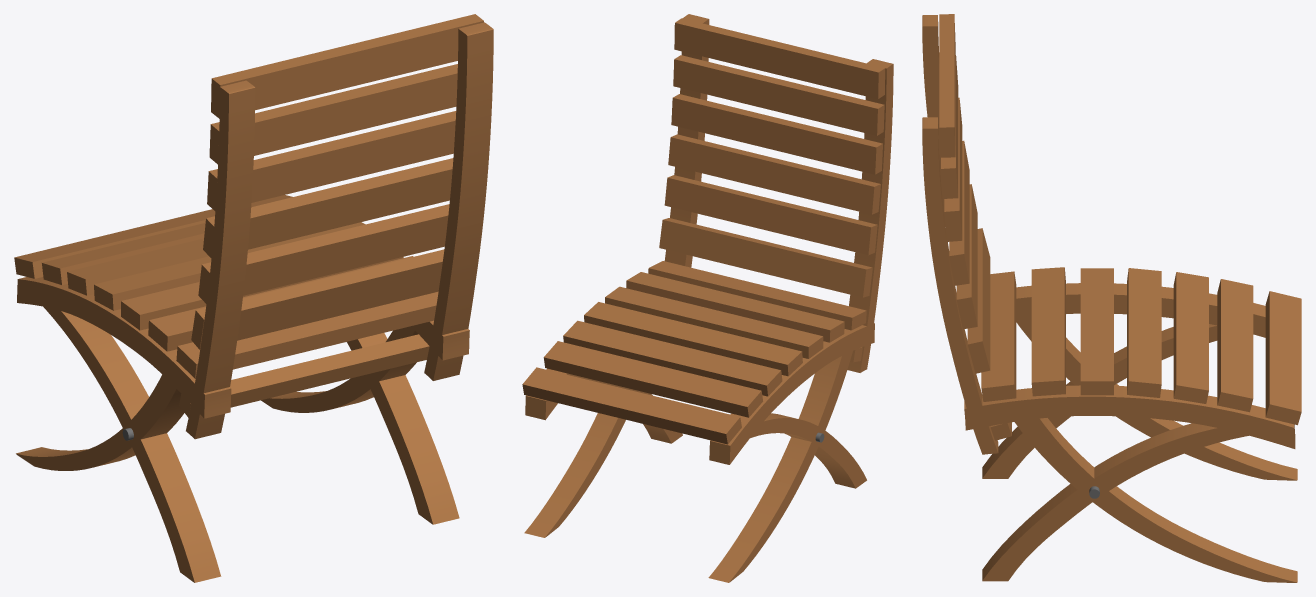
File: Chair.fbx
3 views of the same model, side by side, from view 1: azimuth 30°, elevation 25°; view 2: azimuth 150°, elevation 25°; view 3: azimuth 270°, elevation 25° (orthographic). The views are drawn at different scales.
Visible parts, largest first — view 1: chair; view 2: chair; view 3: chair.
Boxes of the visible parts, x1,y1,x2,y2 form: chair: (14,14,493,582); chair: (522,14,893,582); chair: (922,14,1301,582).
Size of the model in its own units: 105 by 188 by 142.
